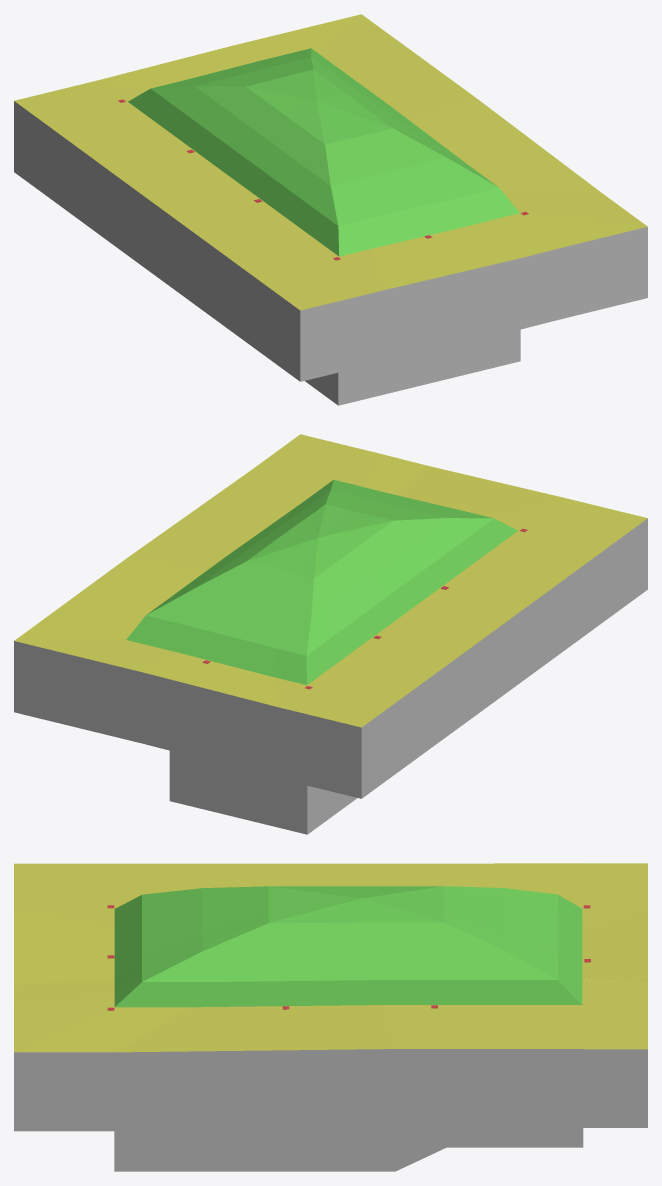
The model's file is Museumv2.fbx.
3 views of the same model, one above another, from view 1: azimuth 30°, elevation 25°; view 2: azimuth 150°, elevation 25°; view 3: azimuth 270°, elevation 25° (orthographic). The views are drawn at different scales.
Visible parts, largest first — view 1: Plane; view 2: Plane; view 3: Plane.
Boxes of the visible parts, x1,y1,x2,y2 form: Plane: (14,14,647,405); Plane: (14,434,647,834); Plane: (14,863,647,1171).
Bounding box in the file's own units: 3431 × 1911 × 4894.
